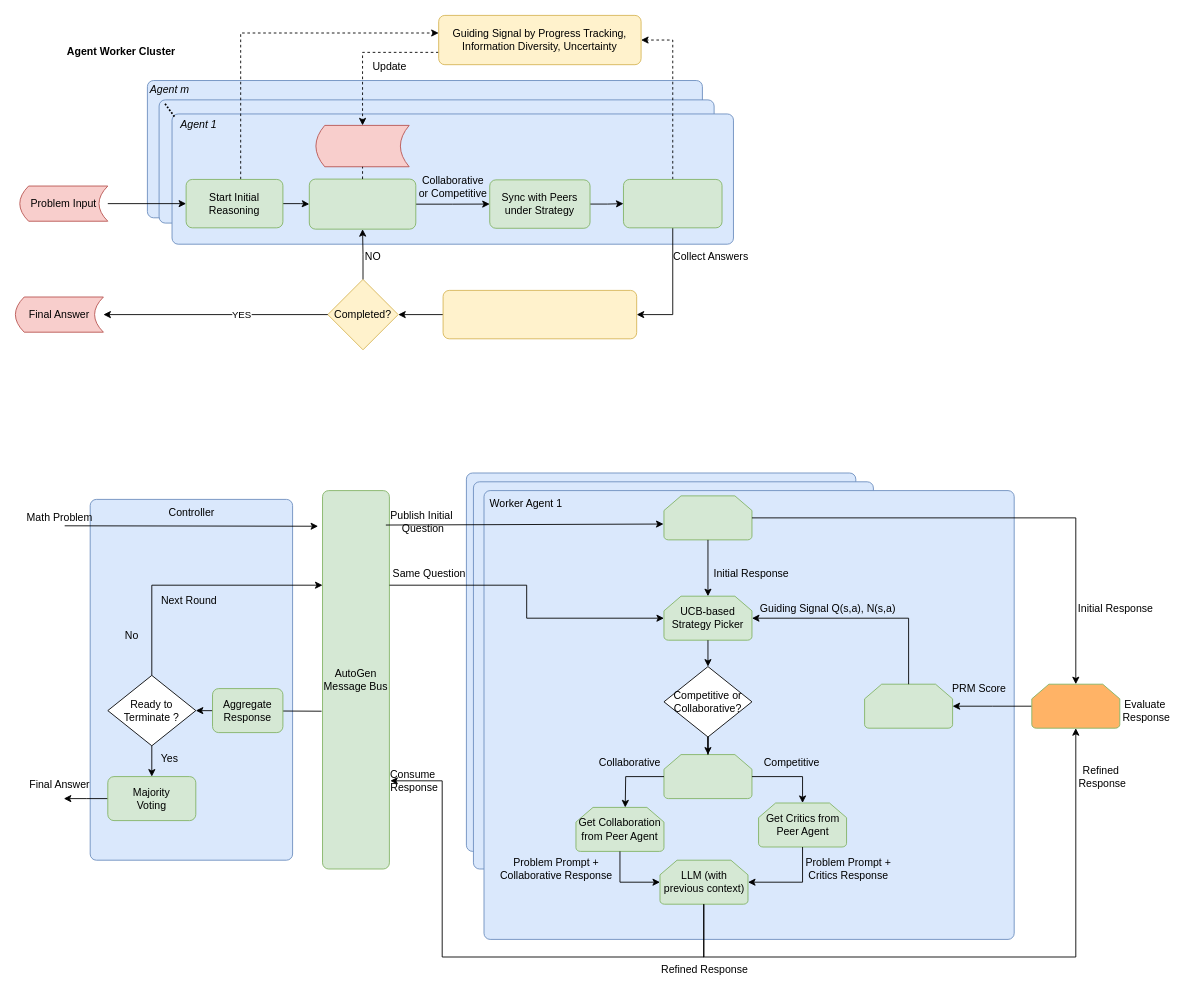
Some shapes in this 1197 by 999 pixel diagram are drawn without their labels. The centre of each missing label's shape, as x and y in pixels:
"Determine Strategy using UCB" belongs at (362,203).
"Finalize Cluster Answer via Majority Voting" belongs at (539,314).
"LLM" belongs at (707,517).
"Measure Progress (Delta(Score))" belongs at (908,705).
"Pick Peer Agent" belongs at (707,776).
"PRM Server" belongs at (1075,705).
"Q(s, a), N(s,a)" belongs at (362,146).
"Refine Reasoning from Feedback" belongs at (672,203).
